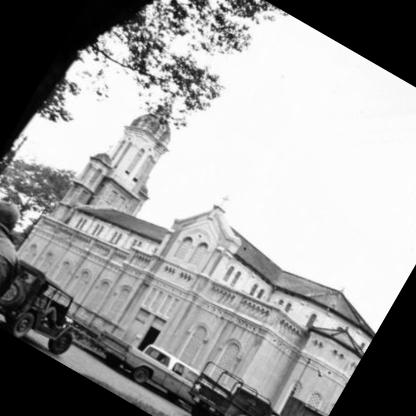car: (80, 309, 212, 416)
